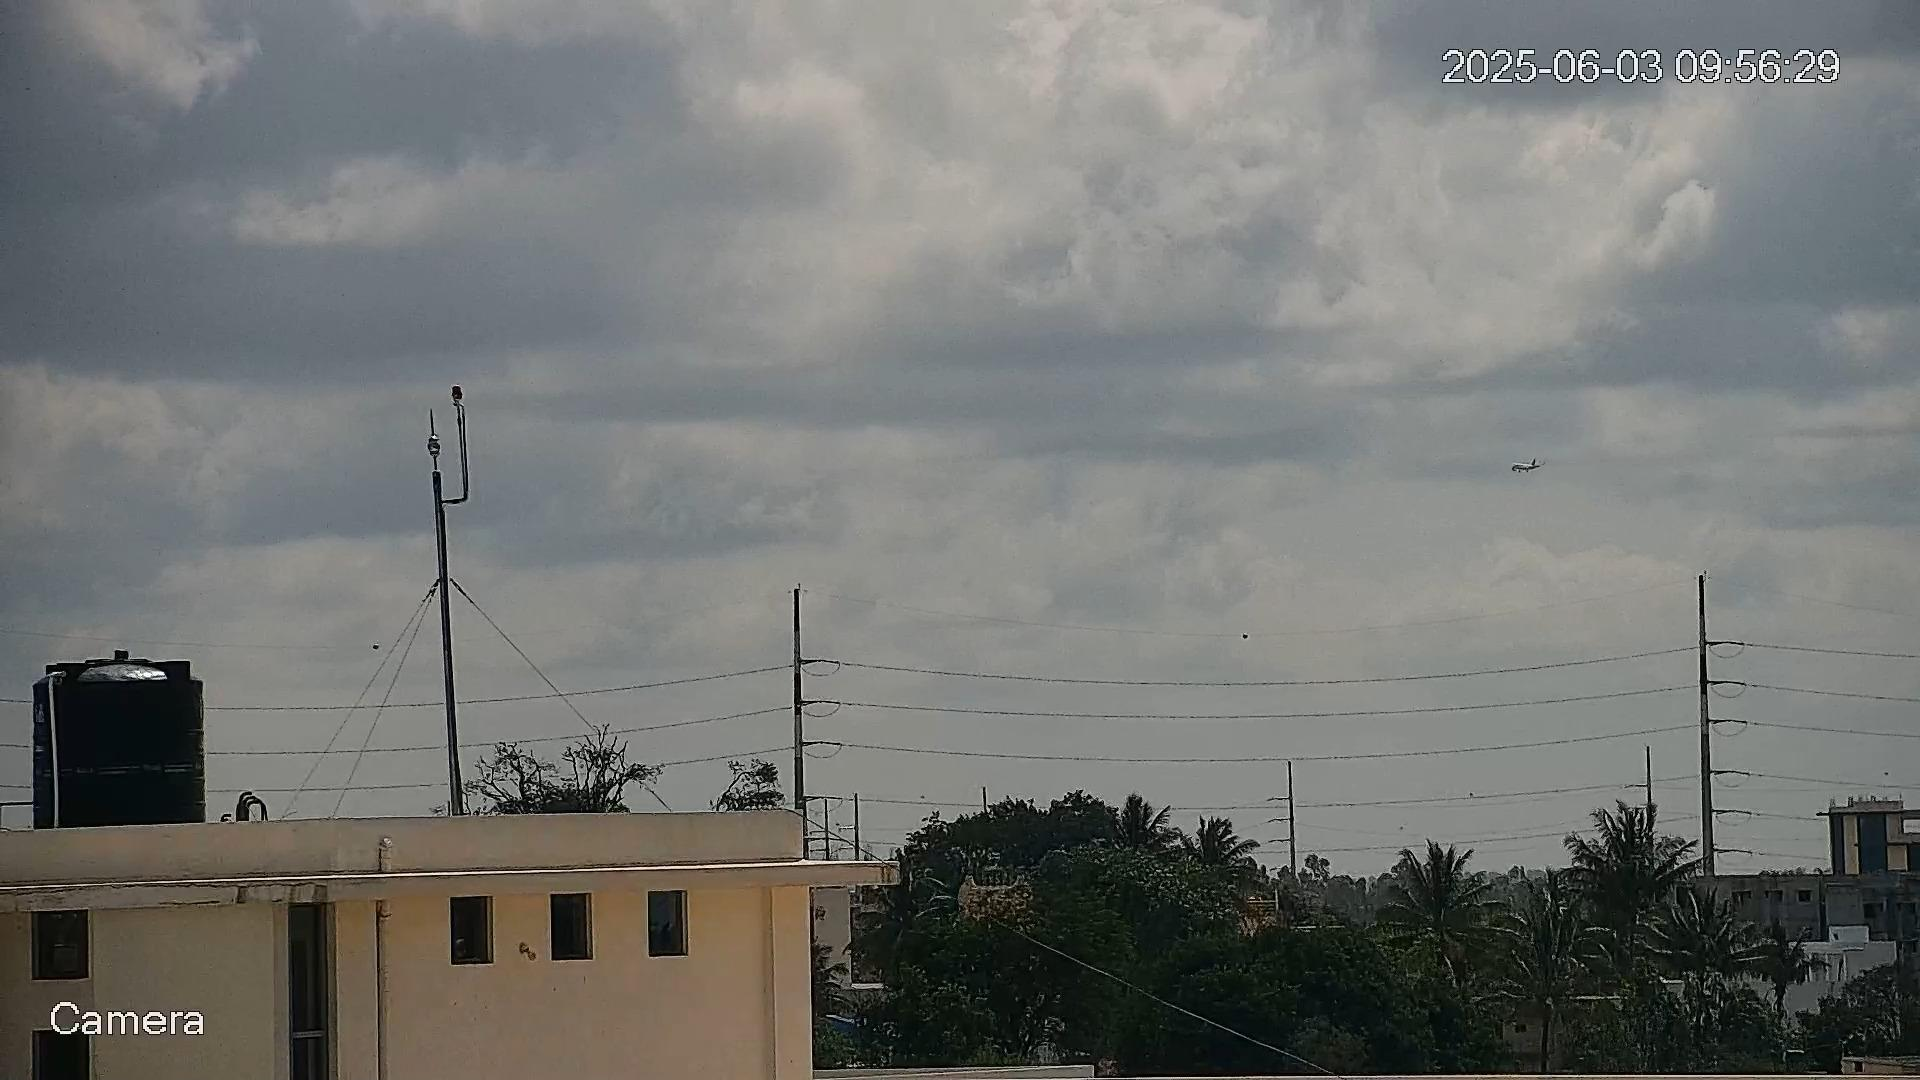Aircraft: (1513, 458, 1542, 473)
